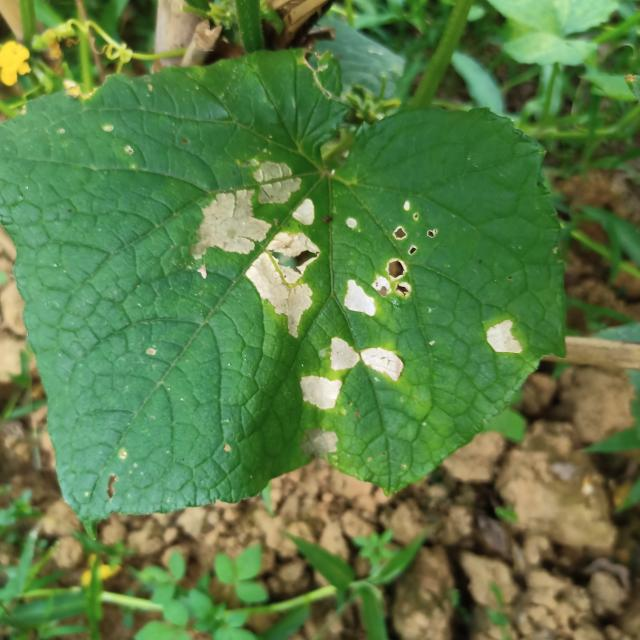disease_cucumber: (187, 149, 319, 344), (337, 200, 440, 324), (285, 336, 410, 415), (475, 311, 528, 362)
